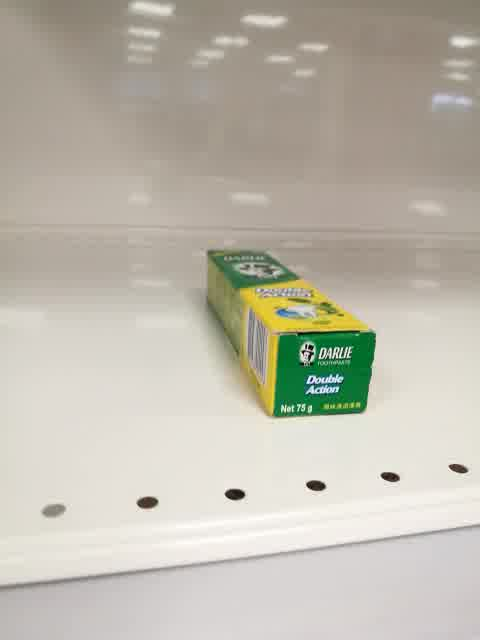toothpaste: (204, 246, 377, 420)
